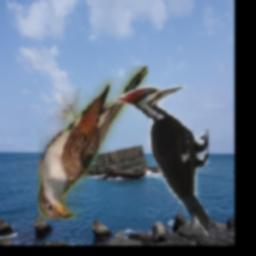Cuckoo: (38, 66, 148, 220)
Woodpecker: (114, 85, 209, 237)
